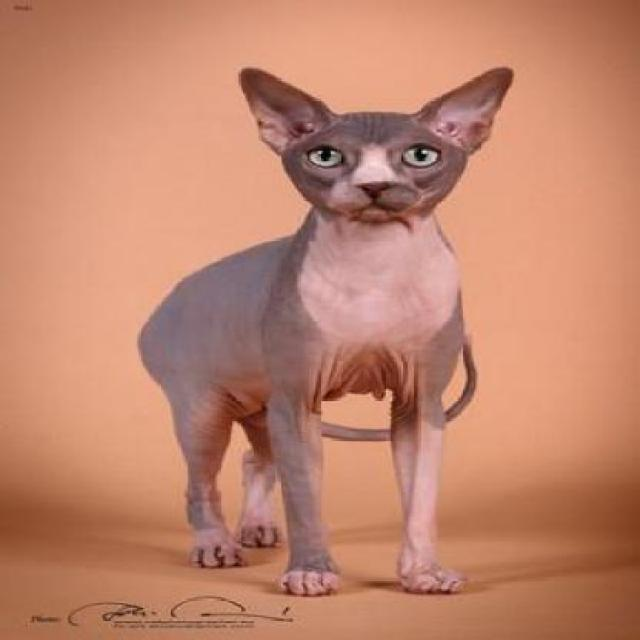cat: (135, 64, 516, 599)
